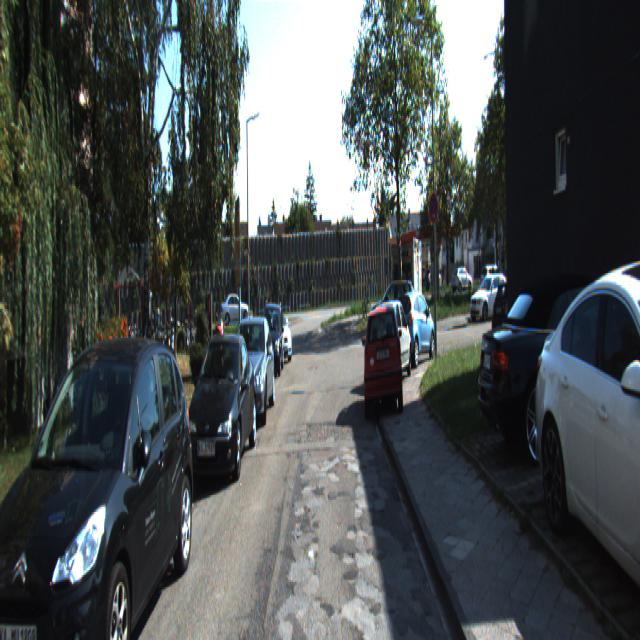Car: (0, 329, 196, 639), (530, 248, 640, 612), (480, 268, 639, 478), (184, 323, 258, 491), (224, 313, 276, 431), (362, 299, 405, 428), (371, 298, 413, 392), (393, 285, 438, 369), (258, 298, 286, 380), (469, 277, 512, 325), (260, 306, 292, 365), (218, 292, 250, 328)
